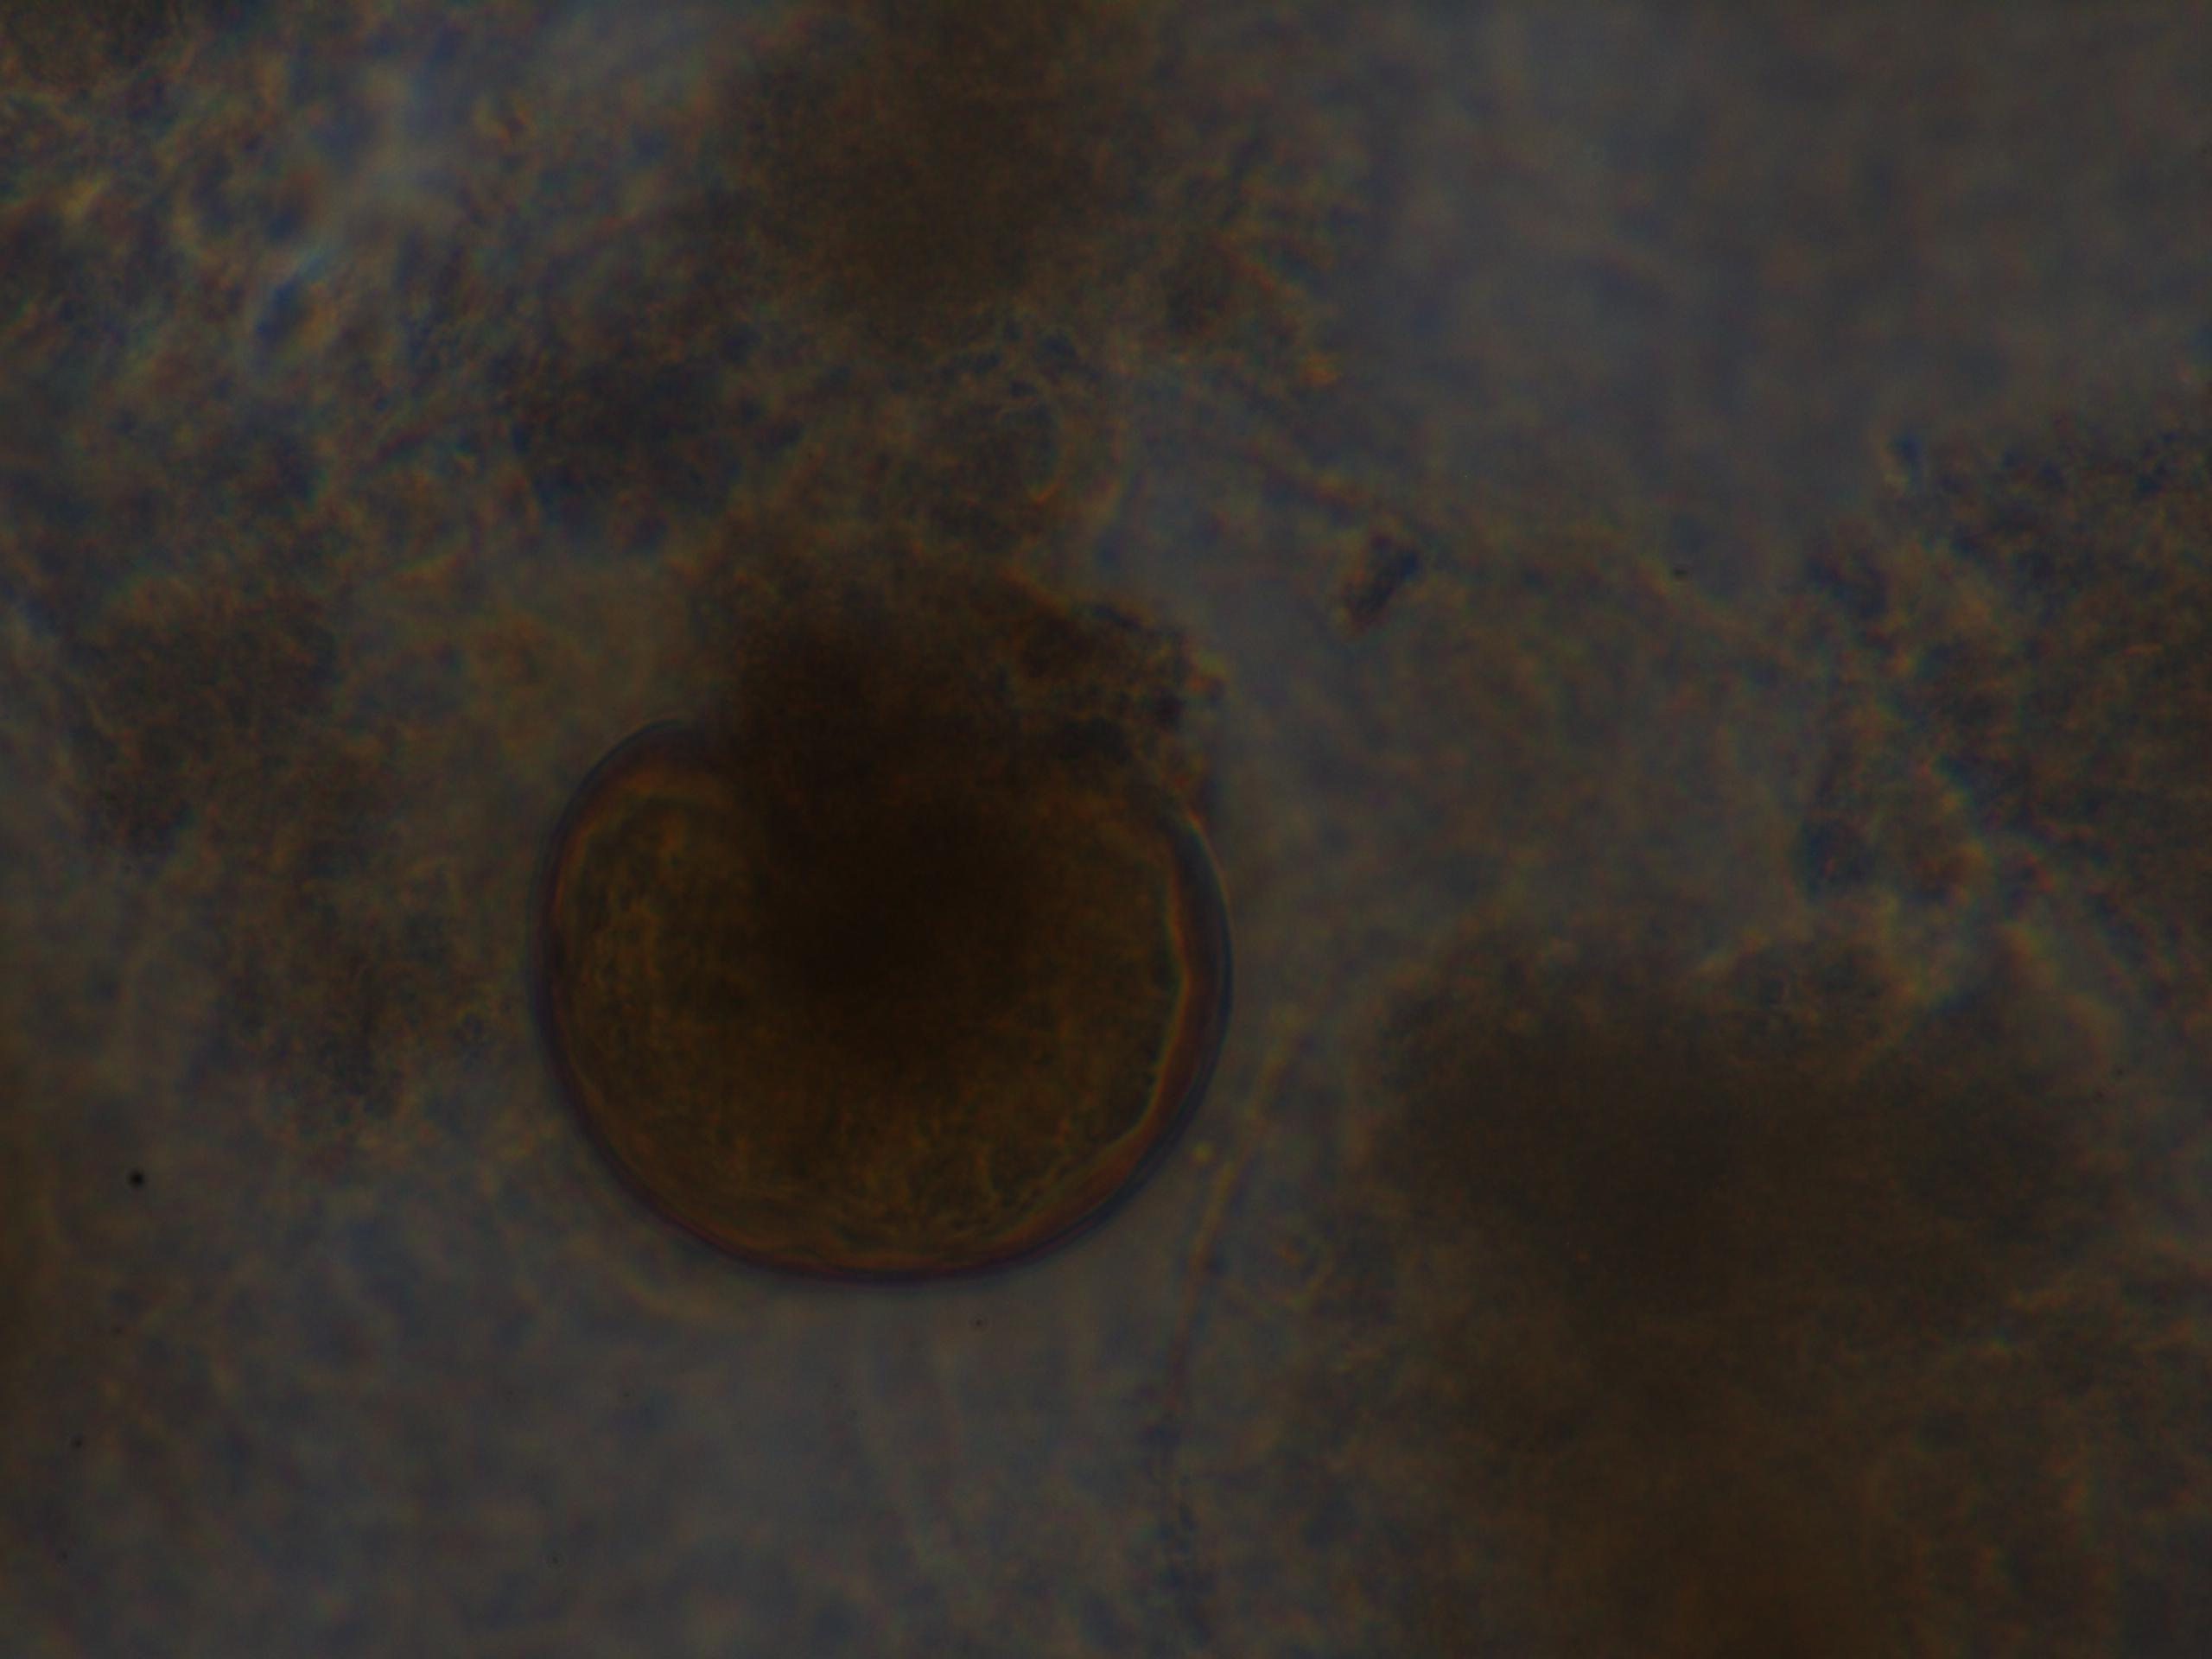protozoa: (514, 671, 1242, 1293)
